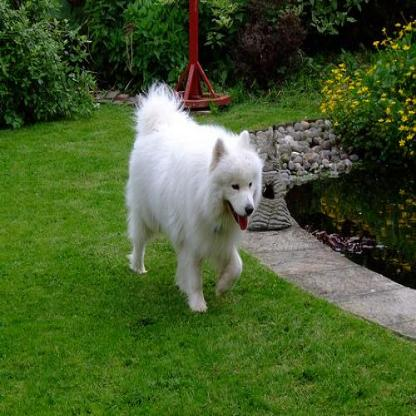Samoyed: (125, 82, 262, 314)
